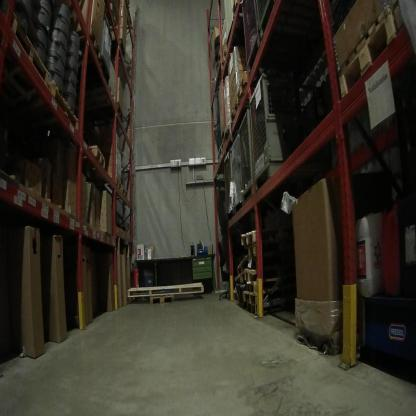pallets: (337, 12, 405, 104)
